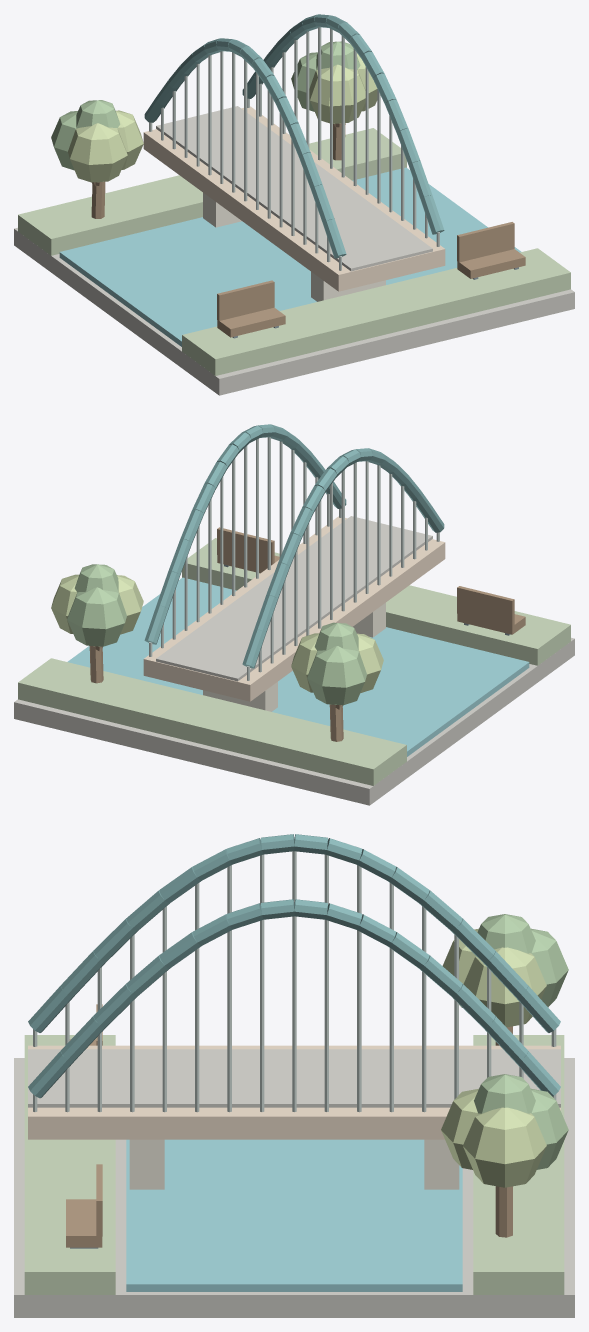
Rendered from dot-tpl-bridge-2.glb.
The picture shows the model from 3 angles, top to bottom: view 1: azimuth 30°, elevation 25°; view 2: azimuth 150°, elevation 25°; view 3: azimuth 270°, elevation 25°; orthographic projection. The views are drawn at different scales.
Parts seen in each view (by area): view 1: paving; view 2: paving; view 3: paving.
Boxes of the visible parts, box(x1,y1,x2,y2) form: paving: box(14, 14, 574, 395); paving: box(14, 424, 574, 805); paving: box(14, 834, 574, 1317).
Size of the model in its own units: 4 by 2.62 by 4.
Materials: 1 (1 with a texture image).
